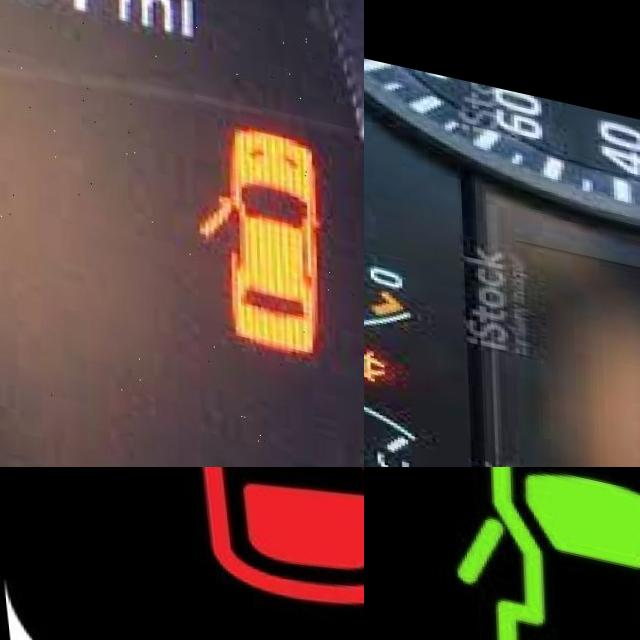Seat Belt: (364, 328, 394, 369)
